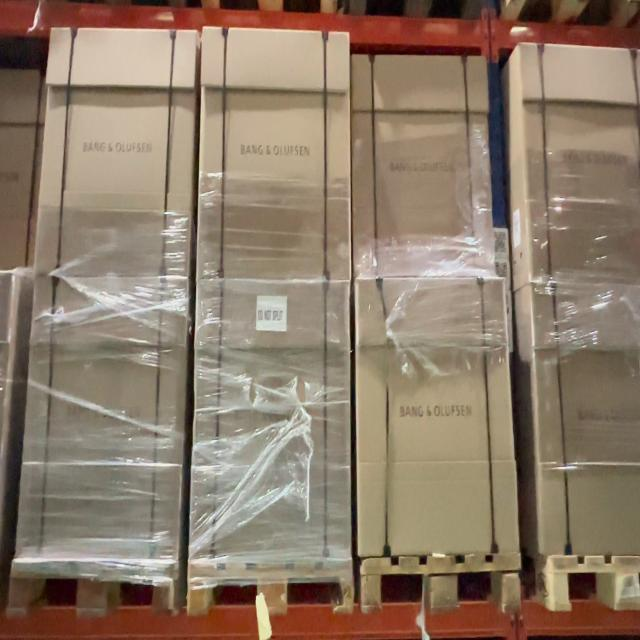box: (15, 276, 188, 558), (190, 278, 353, 559), (358, 276, 520, 556), (35, 28, 198, 280), (197, 30, 351, 280), (350, 57, 496, 276)
